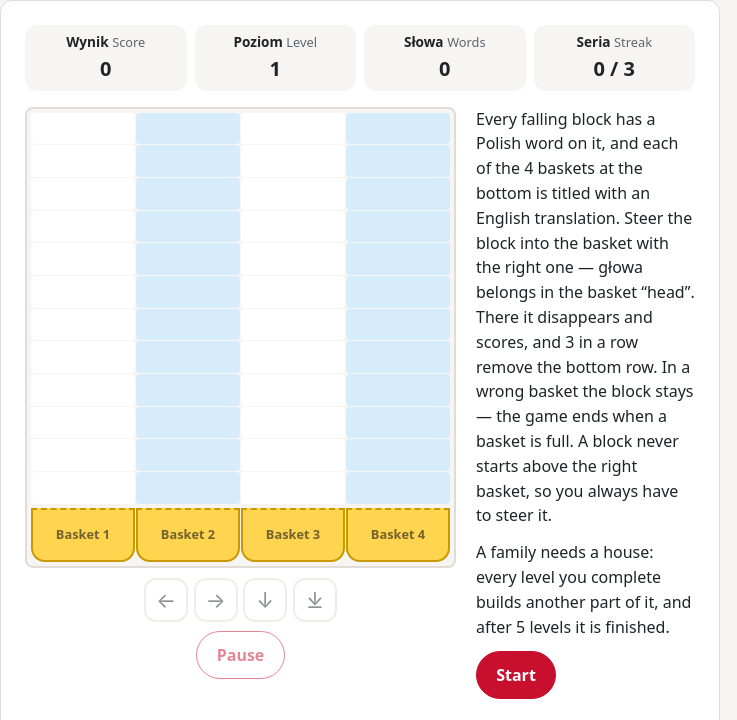
Test: Tetris › writes a Polish word on the falling block and titles four baskets with translations
Click the button "Start": (516, 675) [476, 651, 556, 699]
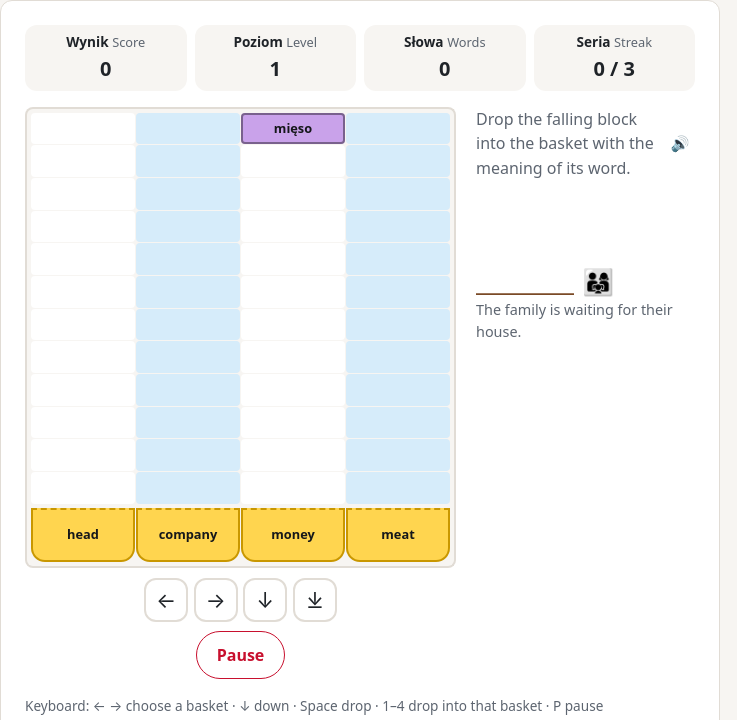
Expected: the text "meat" is shown, [381, 527, 415, 542]
